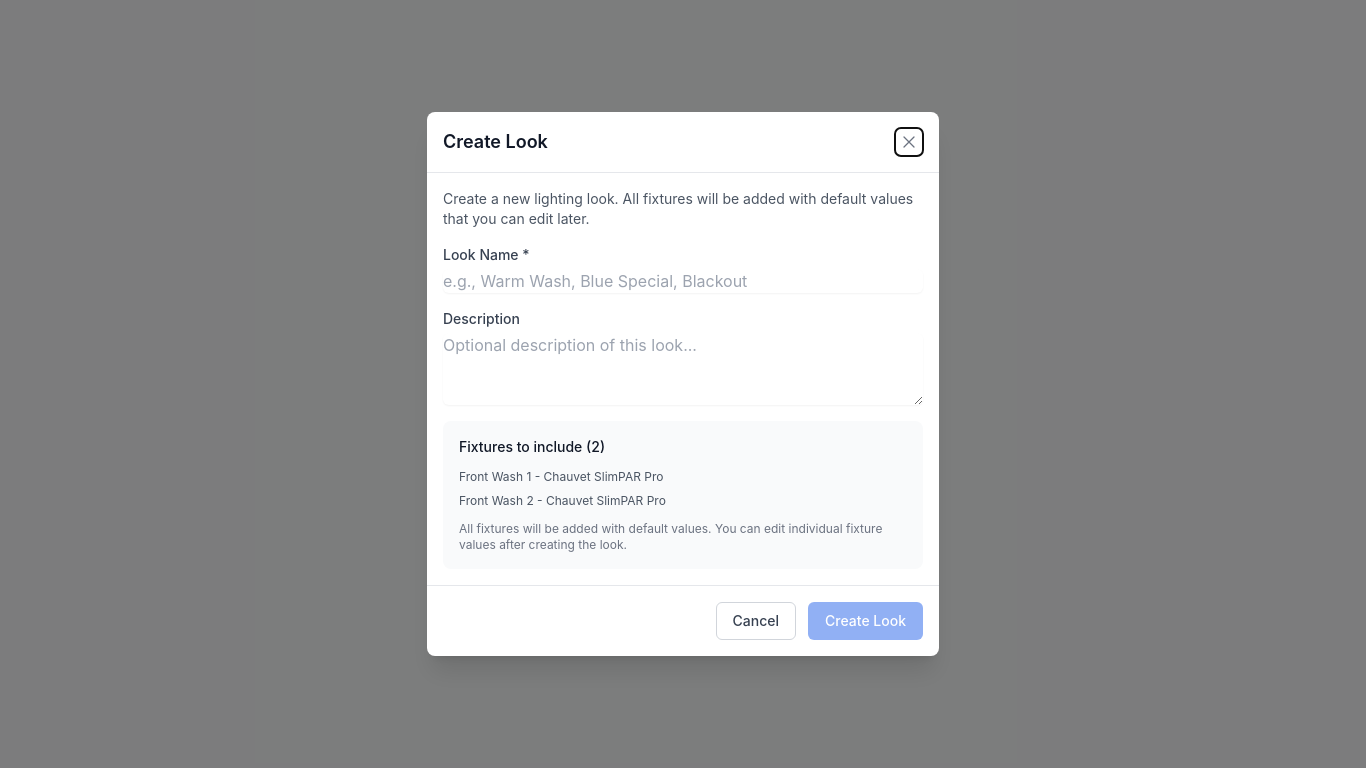
Test: CreateLookModal › error handling › displays error message on mutation failure
Check: the heading "Fixtures to include (2)" is shown, box x1=459 y1=438 x2=605 y2=455
Type "Test" into the field labelled "Look Name *". click: (683, 281)
box: x1=443 y1=269 x2=923 y2=293
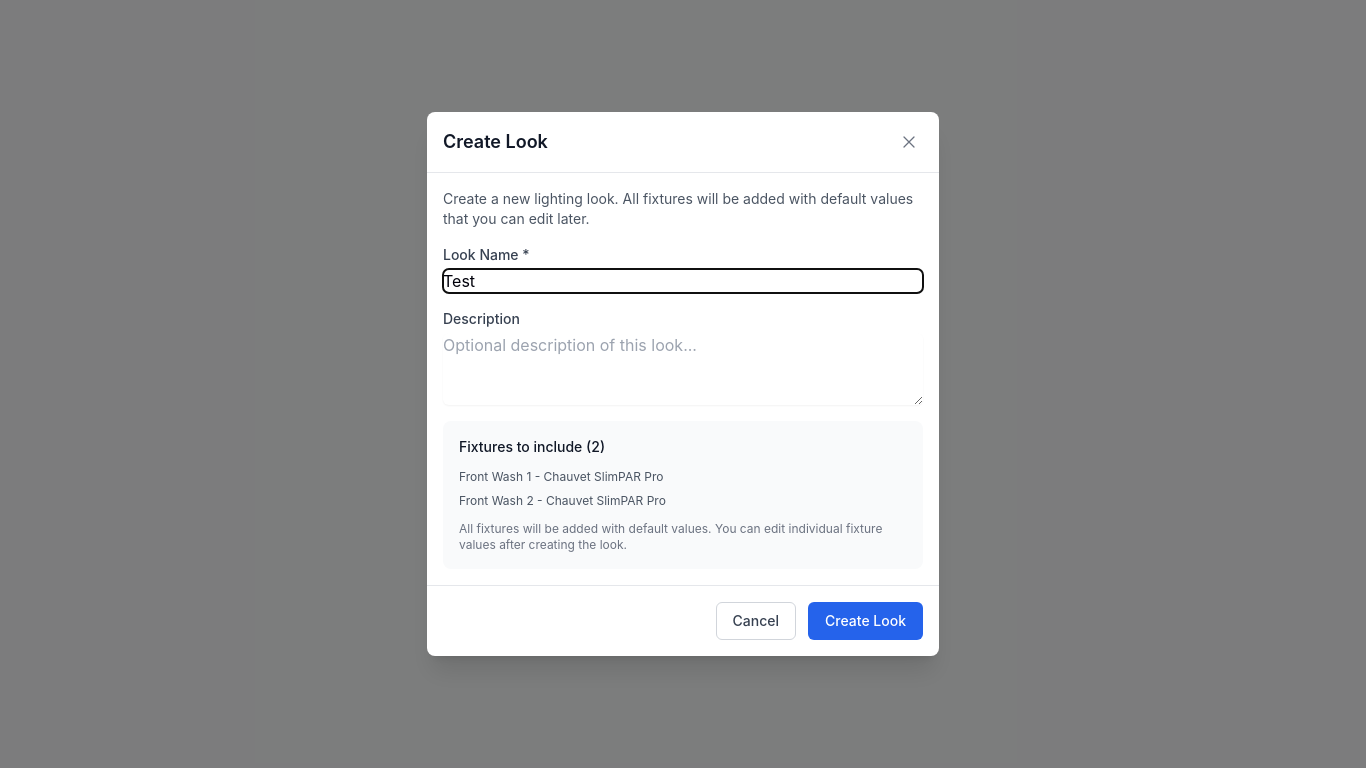
Click the button "Create Look". click: (866, 621)
box: x1=808 y1=602 x2=923 y2=640
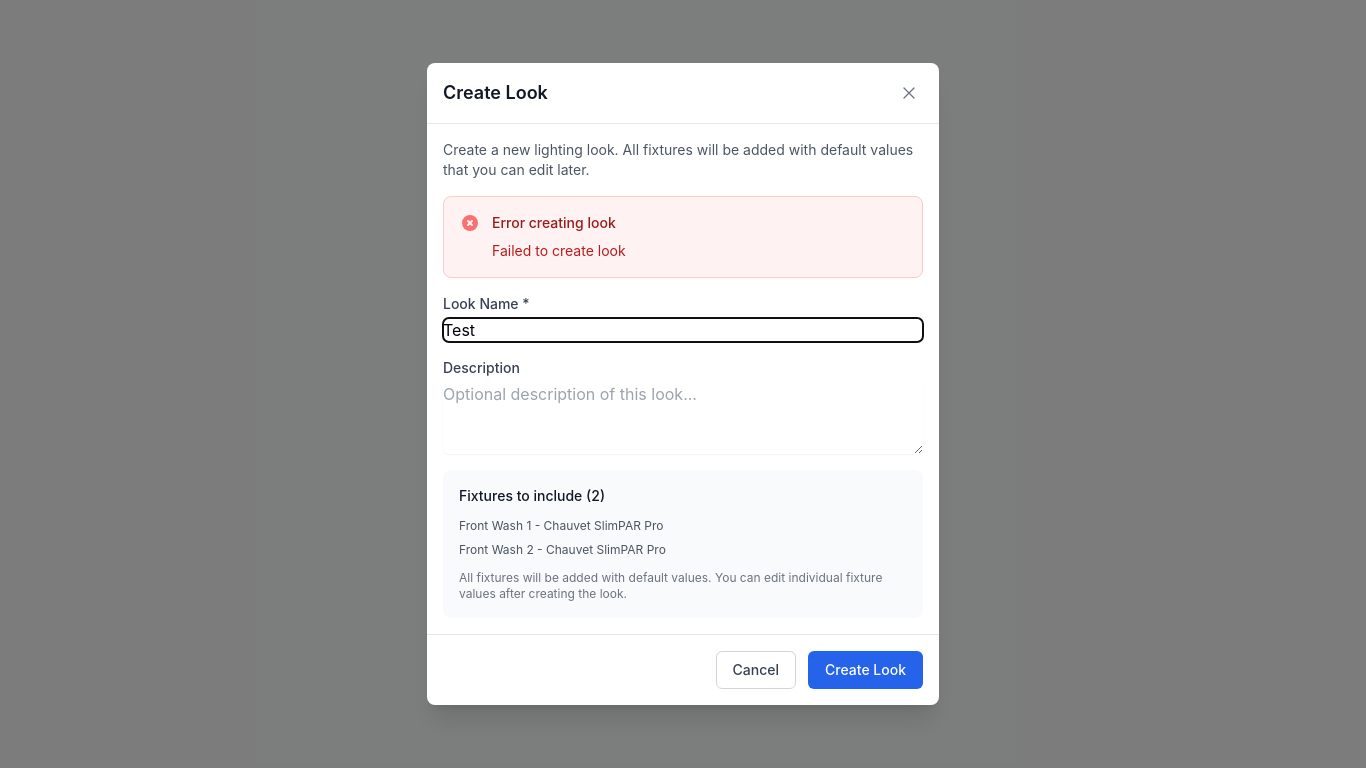
Check: the heading "Error creating look" is shown, box x1=492 y1=213 x2=626 y2=233
Check: the text "Failed to create look" is shown, box x1=492 y1=241 x2=626 y2=261
